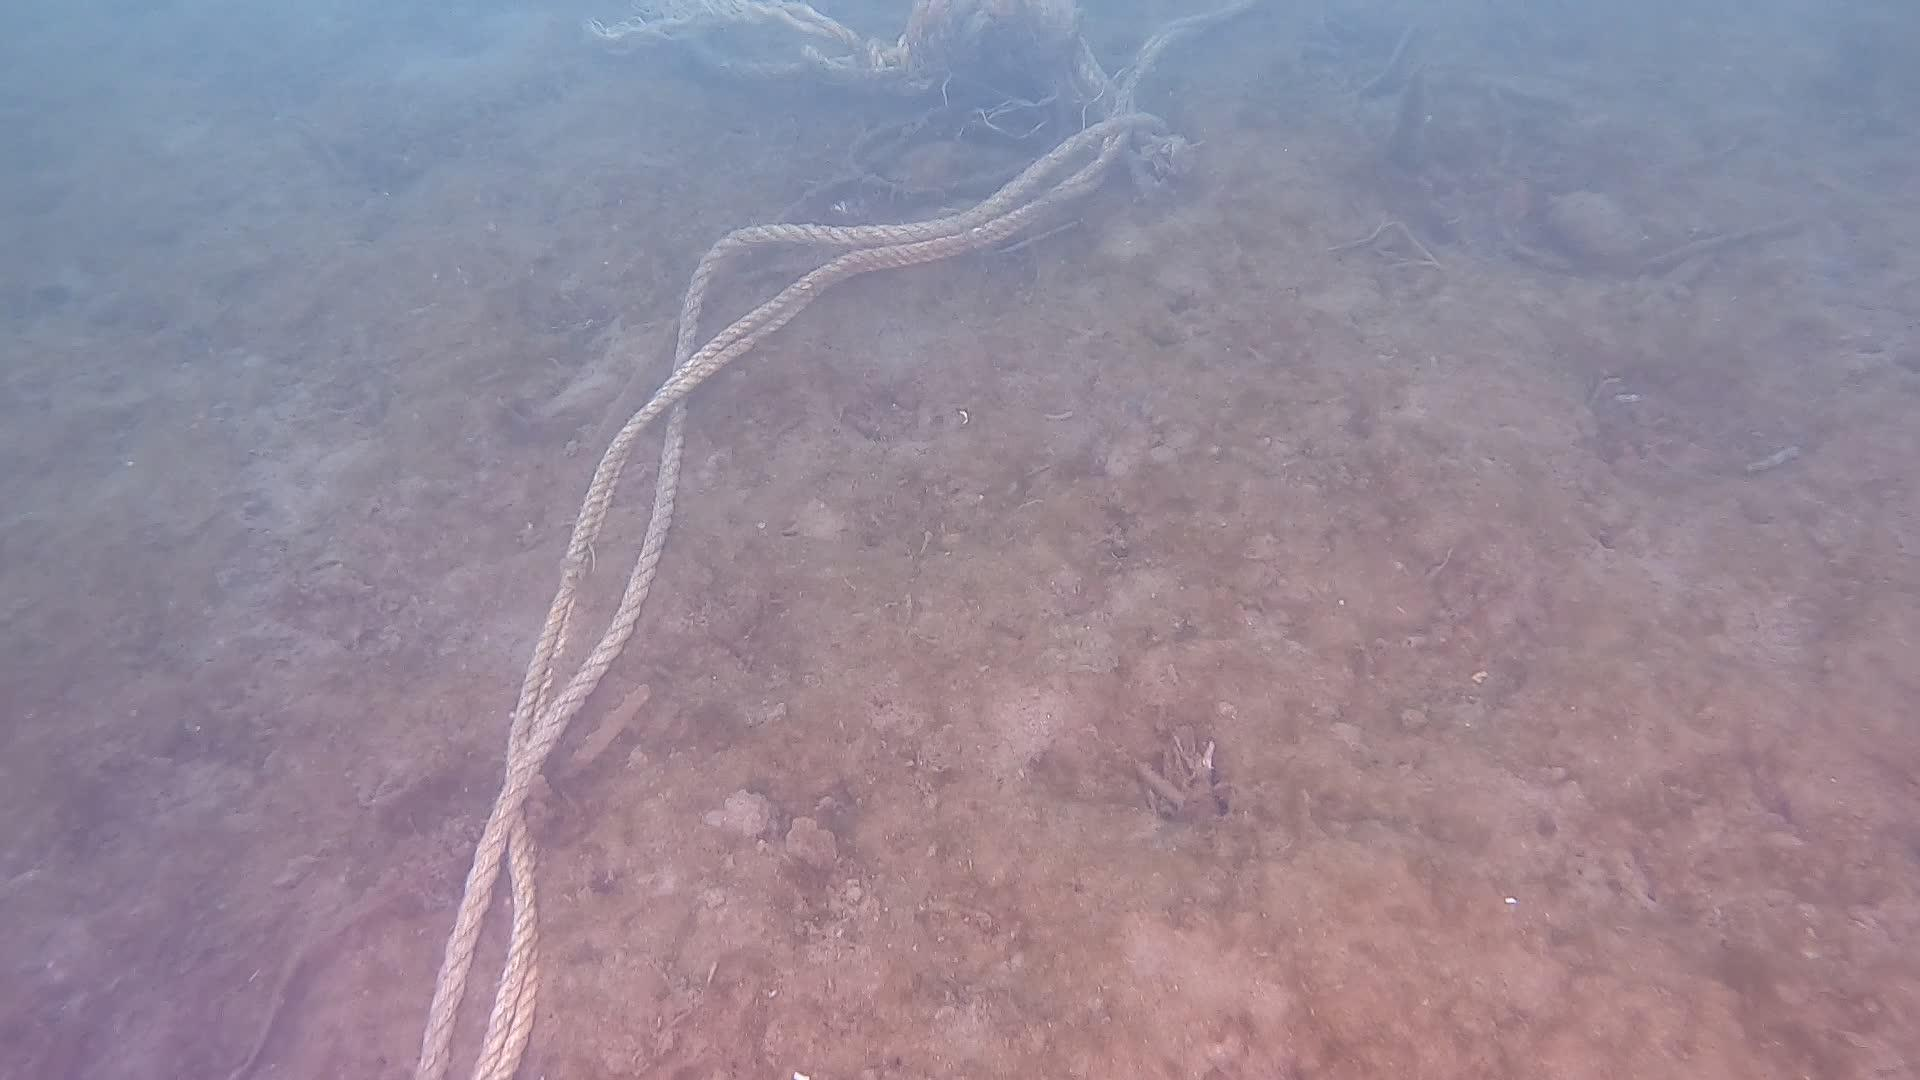bundle of ropes: (402, 0, 1250, 1080)
